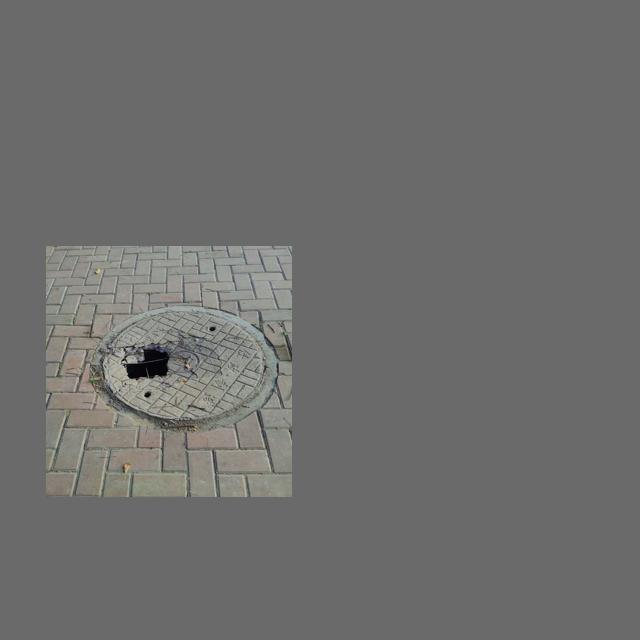broke: (82, 300, 281, 433)
